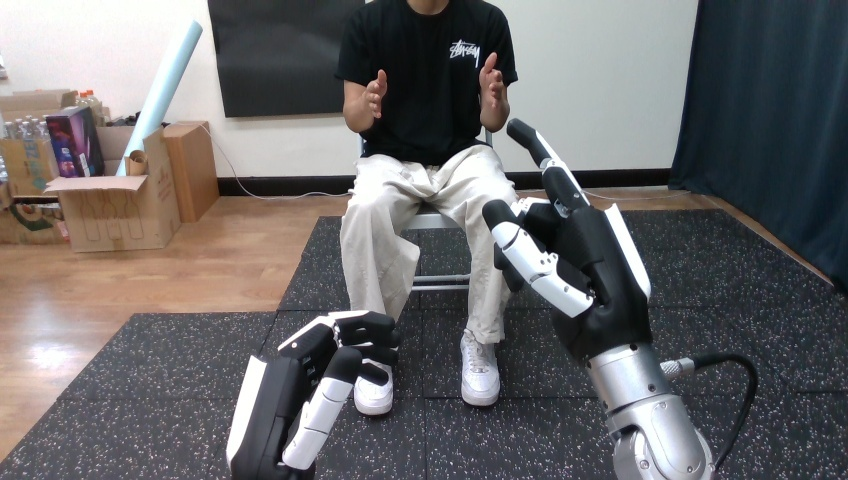left robot arm: (482, 119, 756, 479)
left robot hand: (482, 119, 756, 479)
right robot arm: (482, 119, 756, 479)
right robot hand: (482, 119, 756, 479)
